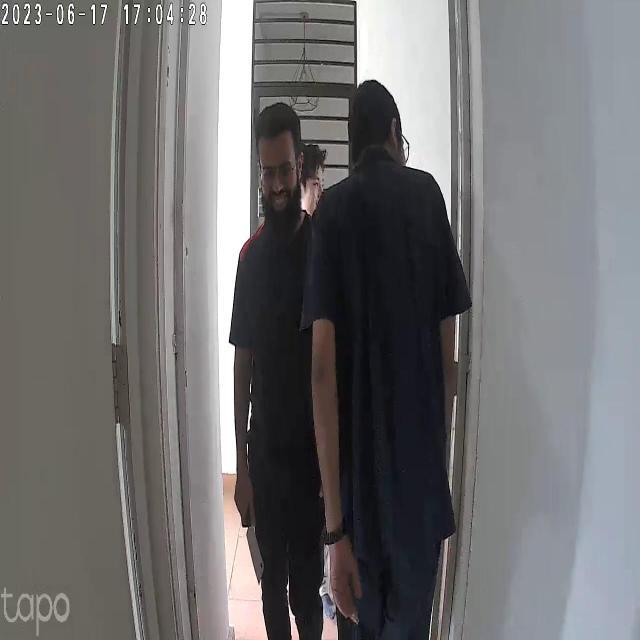Knife: (232, 508, 278, 586)
